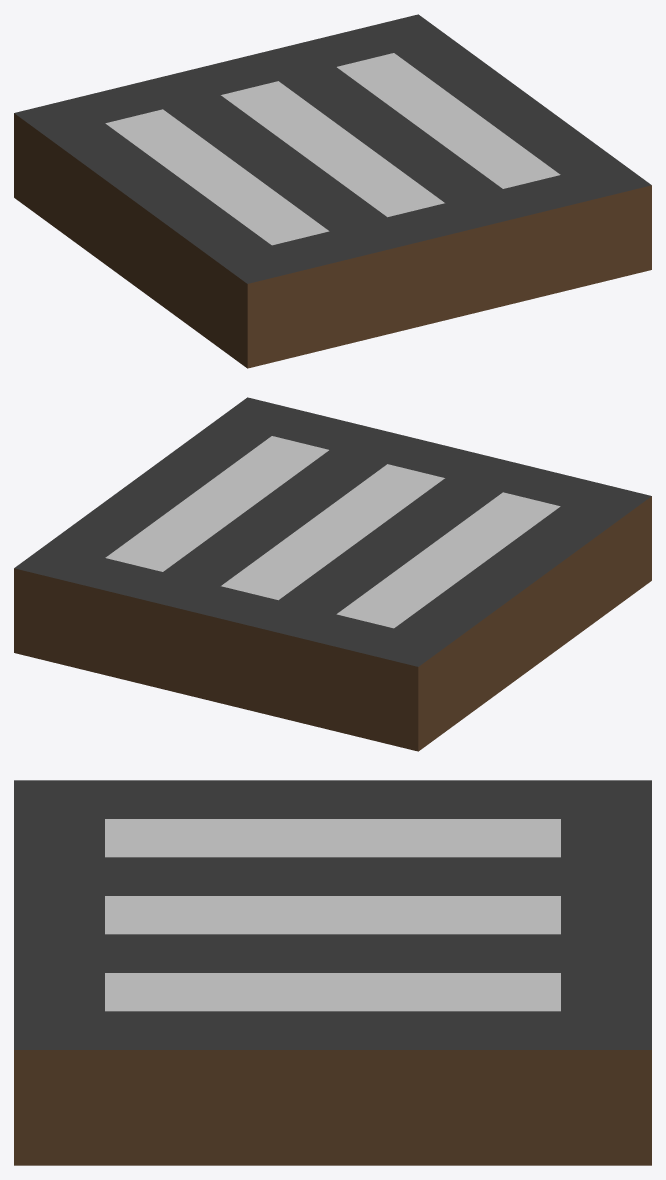
File: cross_road_1.fbx
3 views of the same model, one above another, from view 1: azimuth 30°, elevation 25°; view 2: azimuth 150°, elevation 25°; view 3: azimuth 270°, elevation 25° (orthographic). The views are drawn at different scales.
Visible parts, largest first — view 1: Cube.004; view 2: Cube.004; view 3: Cube.004.
Boxes of the visible parts, x1,y1,x2,y2 form: Cube.004: (14,14,651,368); Cube.004: (14,397,651,751); Cube.004: (14,780,651,1165).
Size of the model in its own units: 1000 by 200 by 1000.
